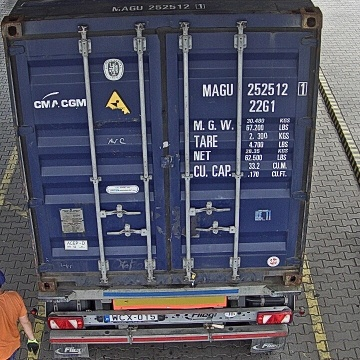serial_id: (203, 82, 307, 96)
